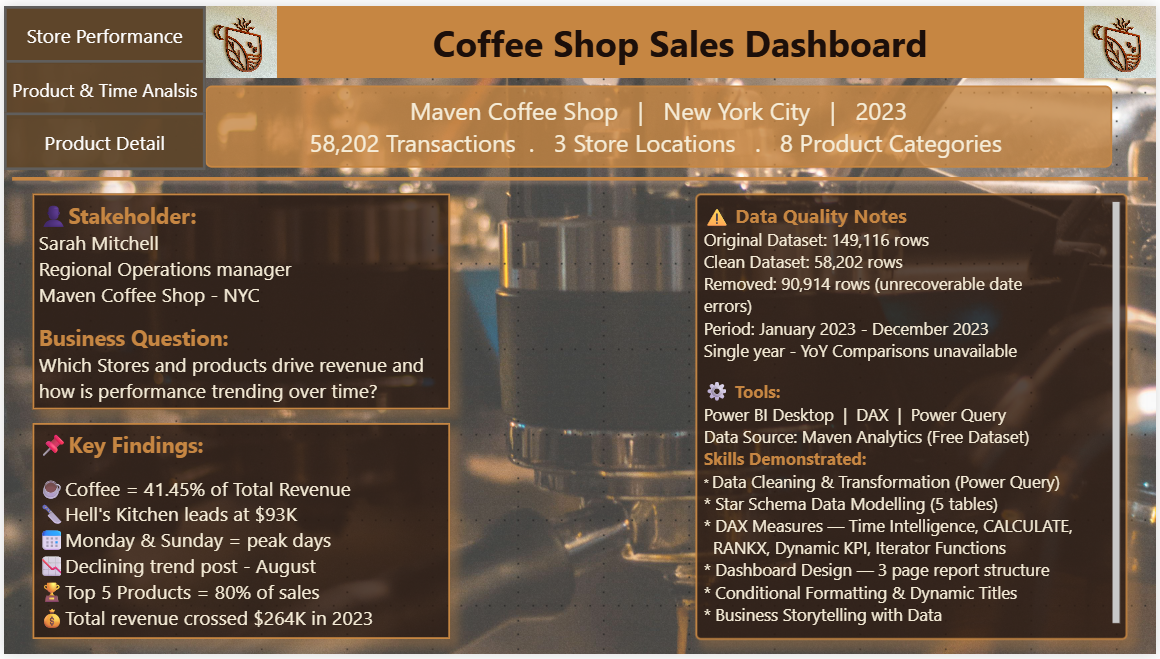

Layout of this report page (visuals, bound fields, positions):
{"tool":"powerbi","page":{"name":"Cover","canvas":[1280,720],"ordinal":0},"visuals":[{"type":"shape","box":[224,0,1056,80],"z":0},{"type":"textbox","box":[224,88,1008,91],"z":1000},{"type":"shape","box":[0,160,1280,64],"z":2000},{"type":"textbox","box":[32,208,464,240],"z":3000},{"type":"textbox","box":[32,464,464,240],"z":4000},{"type":"textbox","box":[768,208,480,496],"z":5000},{"type":"image","box":[1200,0,80,80],"z":6000},{"type":"image","box":[224,0,80,80],"z":7000},{"type":"actionButton","box":[0,0,224,64],"z":8000},{"type":"actionButton","box":[0,60,224,65],"z":9000},{"type":"actionButton","box":[0,118,224,64],"z":10000}]}

Visuals, with their boxes in screenshot pixels (x1, y1, x2, y2), scaled from the page's 1280x720 canvas onto the 1160x659 screenshot:
shape: bbox(203, 0, 1159, 73)
textbox: bbox(203, 81, 1116, 164)
shape: bbox(0, 146, 1159, 205)
textbox: bbox(29, 190, 450, 410)
textbox: bbox(29, 425, 450, 644)
textbox: bbox(696, 190, 1131, 644)
image: bbox(1088, 0, 1159, 73)
image: bbox(203, 0, 276, 73)
actionButton: bbox(0, 0, 203, 59)
actionButton: bbox(0, 55, 203, 114)
actionButton: bbox(0, 108, 203, 167)
